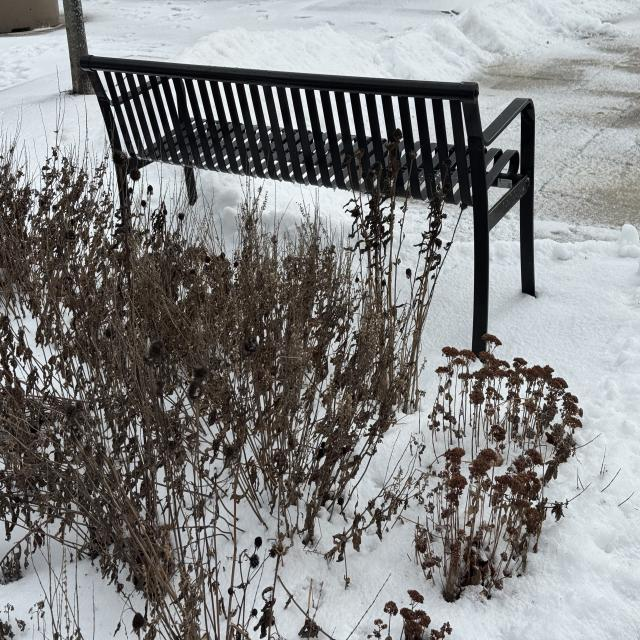Bench: (80, 46, 546, 360)
